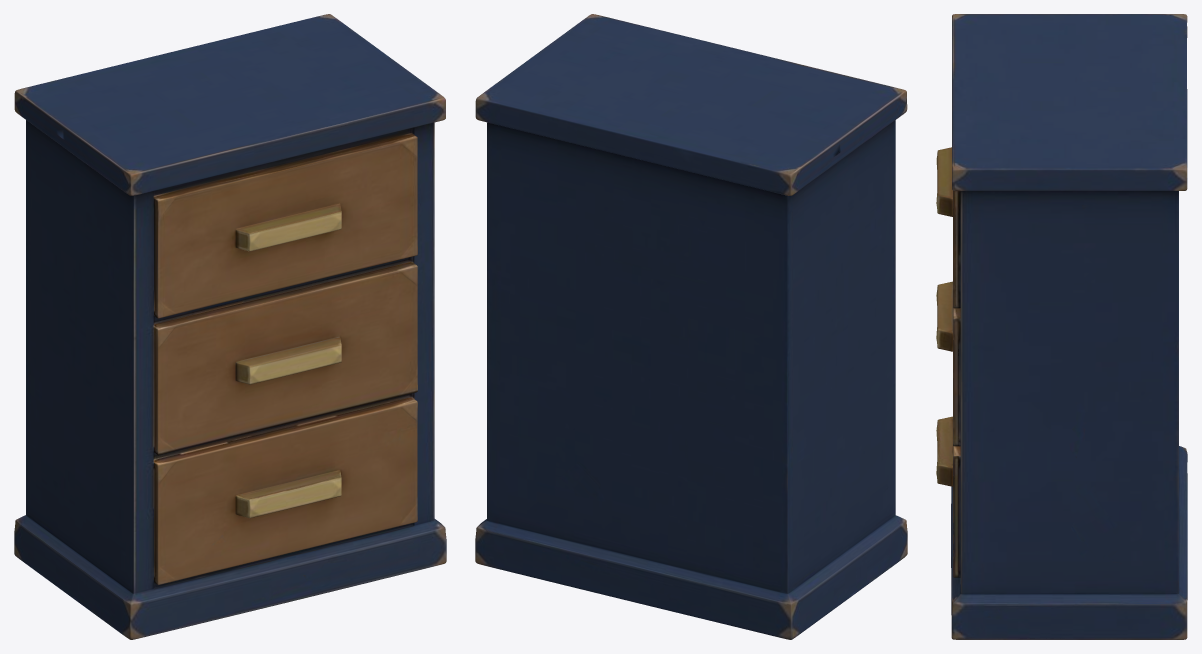
File: short_cabinet.glb
3 renders of one model, left to right at view 1: azimuth 30°, elevation 25°; view 2: azimuth 150°, elevation 25°; view 3: azimuth 270°, elevation 25°, orthographic.
Parts seen in each view (by area): view 1: node_0; view 2: node_0; view 3: node_0.
Part boxes in pixels (left/top/right/bottom): node_0: left=14, top=14, right=446, bottom=639; node_0: left=475, top=14, right=907, bottom=639; node_0: left=936, top=14, right=1187, bottom=639.
Bounding box in the file's own units: 0.6493 × 0.9121 × 0.441.
1 material, 1 textured.
